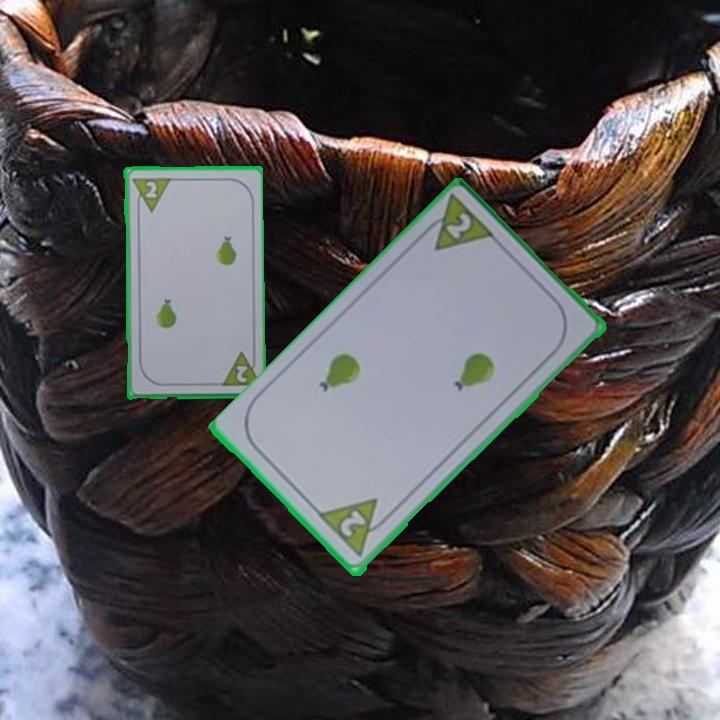2p: (415, 192, 499, 256), (216, 348, 261, 389), (128, 174, 172, 215), (336, 507, 370, 541)
